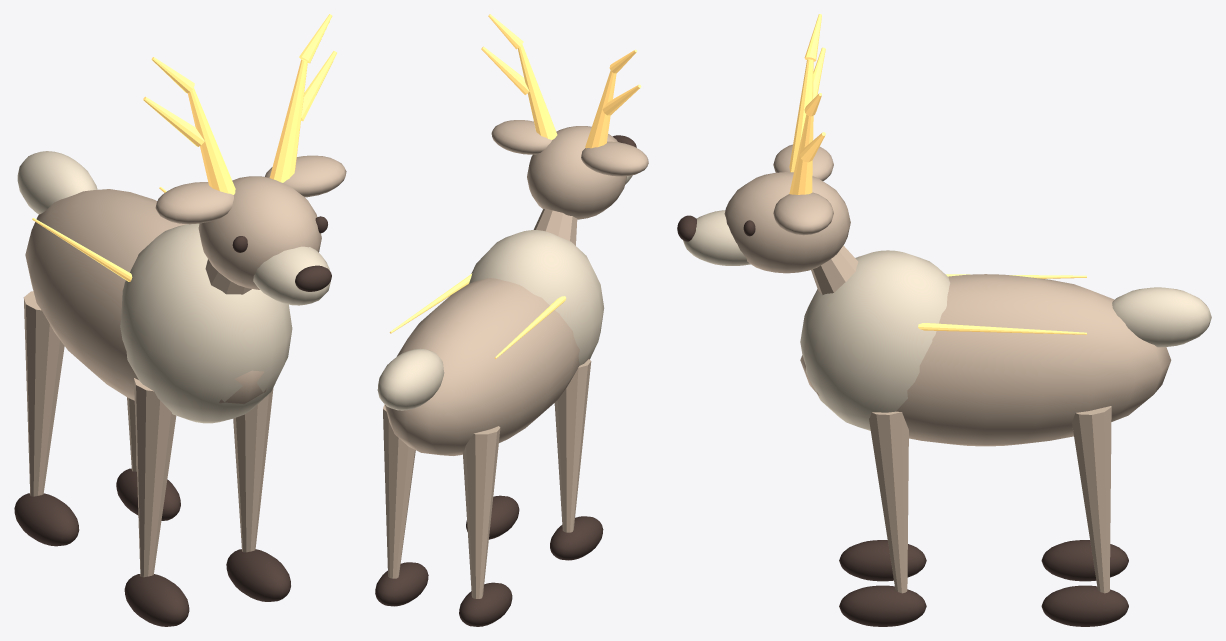
Rendered from Blask_PoC.fbx.
3 renders of one model, left to right at view 1: azimuth 30°, elevation 25°; view 2: azimuth 150°, elevation 25°; view 3: azimuth 270°, elevation 25°, orthographic. The views are drawn at different scales.
Visible parts, largest first — view 1: Blask_Cialo, Blask_Przod_L, Blask_Tyl_L, Blask_Przod_R, Blask_Tyl_R; view 2: Blask_Cialo, Blask_Tyl_L, Blask_Przod_L, Blask_Tyl_R, Blask_Przod_R; view 3: Blask_Cialo, Blask_Tyl_R, Blask_Przod_R, Blask_Przod_L, Blask_Tyl_L.
Boxes of the visible parts, x1,y1,x2,y2 form: Blask_Cialo: [17, 14, 346, 423]; Blask_Przod_L: [124, 378, 189, 626]; Blask_Tyl_L: [14, 291, 79, 546]; Blask_Przod_R: [226, 388, 290, 601]; Blask_Tyl_R: [116, 397, 180, 520]; Blask_Cialo: [377, 14, 648, 455]; Blask_Tyl_L: [459, 426, 512, 626]; Blask_Przod_L: [550, 359, 603, 560]; Blask_Tyl_R: [375, 404, 428, 606]; Blask_Przod_R: [466, 495, 519, 539]; Blask_Cialo: [677, 14, 1211, 446]; Blask_Tyl_R: [1041, 406, 1128, 626]; Blask_Przod_R: [839, 411, 926, 626]; Blask_Przod_L: [839, 540, 926, 581]; Blask_Tyl_L: [1041, 540, 1128, 581].
Size of the model in its own units: 60.86 by 179 by 158.
